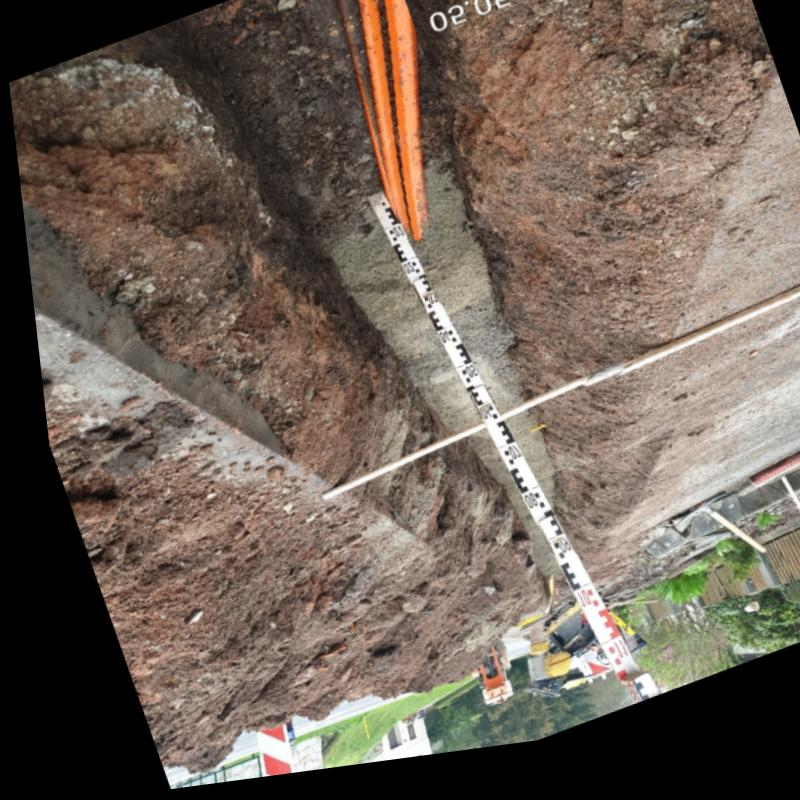Orang-Speednetrohrchen: (353, 0, 422, 250)
